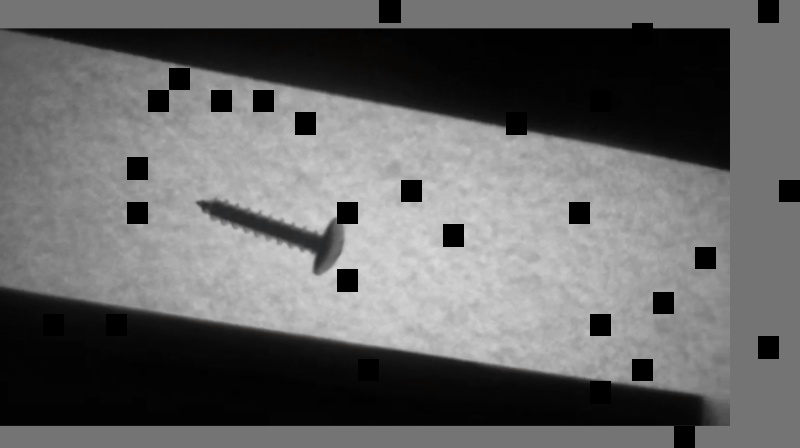S003: (190, 193, 348, 278)
